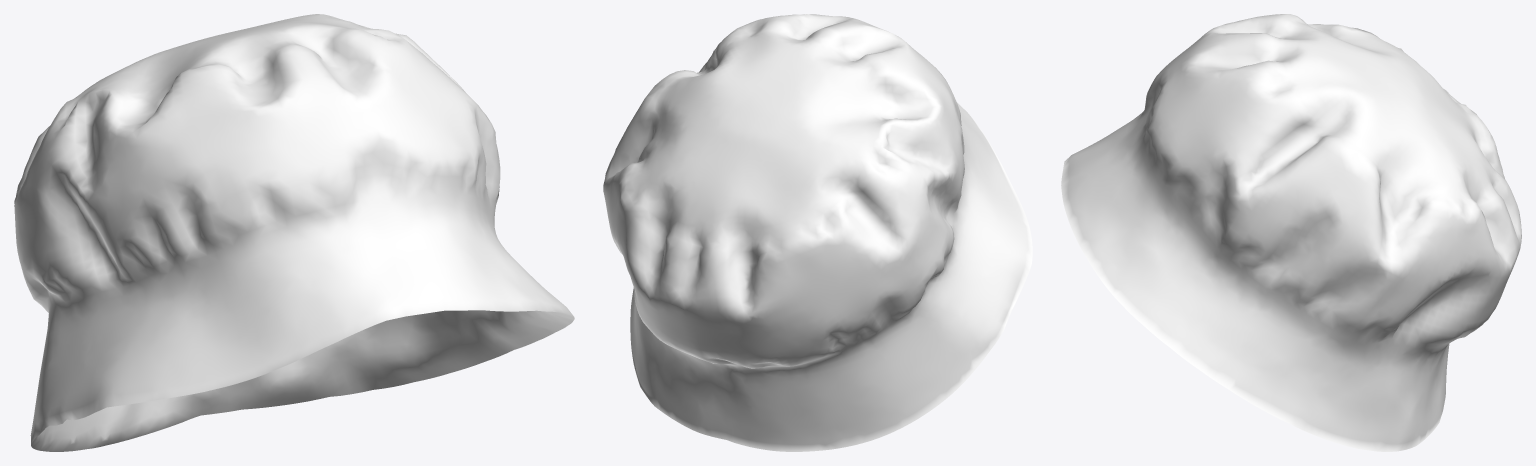
The model's file is panama3.glb.
3 renders of one model, left to right at view 1: azimuth 30°, elevation 25°; view 2: azimuth 150°, elevation 25°; view 3: azimuth 270°, elevation 25°, orthographic. The views are drawn at different scales.
Parts seen in each view (by area): view 1: panama1; view 2: panama1; view 3: panama1.
Boxes of the visible parts, box(x1,y1,x2,y2) form: panama1: box(14, 14, 574, 451); panama1: box(603, 14, 1032, 451); panama1: box(1061, 14, 1521, 451).
Size of the model in its own units: 2.44 by 2.25 by 2.57.
1 material, 1 textured.
